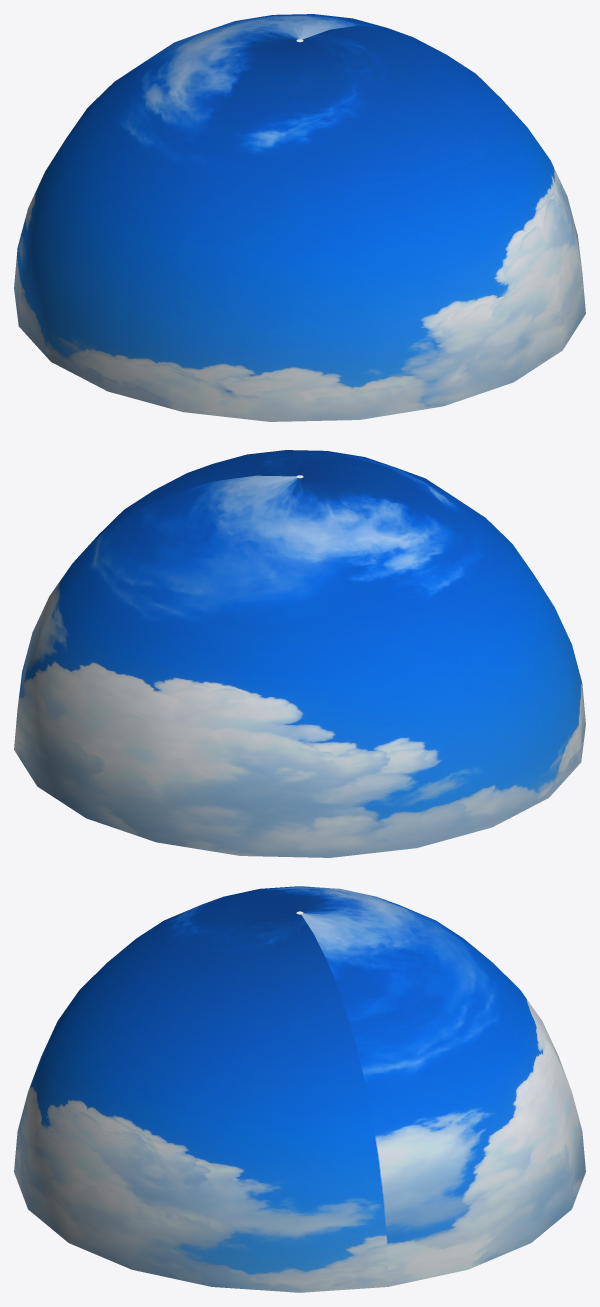
Rendered from sky.obj.
The picture shows the model from 3 angles, top to bottom: view 1: azimuth 30°, elevation 25°; view 2: azimuth 150°, elevation 25°; view 3: azimuth 270°, elevation 25°; orthographic projection.
Visible parts, largest first — view 1: pSphere1; view 2: pSphere1; view 3: pSphere1.
Boxes of the visible parts, bbox=[...] form: pSphere1: bbox=[14, 14, 585, 421]; pSphere1: bbox=[14, 450, 585, 857]; pSphere1: bbox=[14, 886, 585, 1292].
Bounding box in the file's own units: 24.45 × 12.23 × 24.45.
